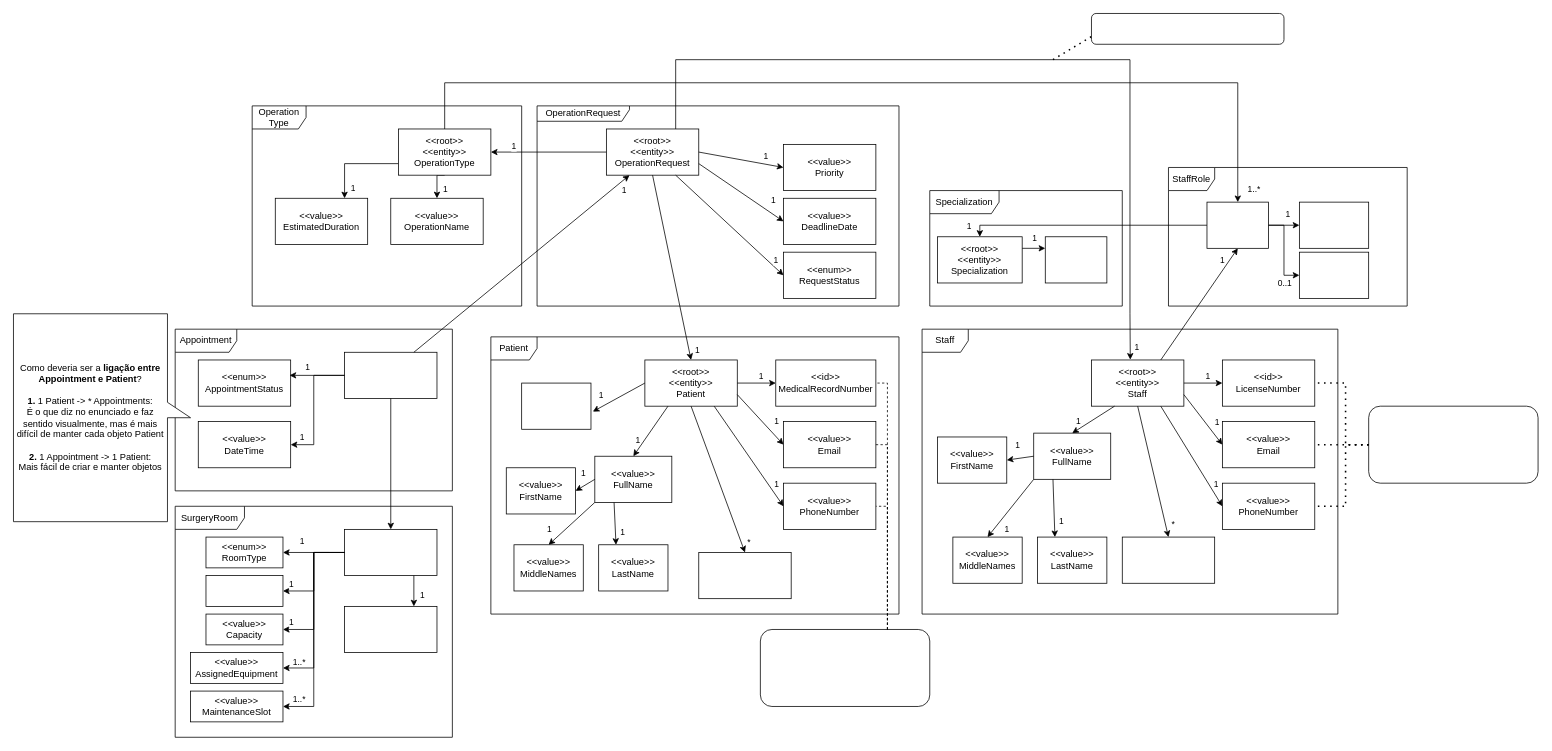
The diagram is 1552 pixels wide and 751 high, and some of its shapes have lost their labels. The centre of each missing label's shape, as x and y in pixels:
"<<enum>> DoctorType" belongs at point 1334,274.
"<<enum>> RoomStatus" belongs at point 244,590.
"<<enum>> StaffRoleName" belongs at point 1334,224.
"<<id>> RoomNumber" belongs at point 390,629.
"<<root>> <<entity>> Appointment" belongs at point 390,375.
"<<root>> <<entity>> StaffRole" belongs at point 1237,224.
"<<root>> <<entity>> SurgeryRoom" belongs at point 390,552.
"<<value>> Allergy" belongs at point 744,575.
"<<value>> AvailableSlot" belongs at point 1168,559.
"<<value>> DateOfBirth" belongs at point 556,405.
"<<value>> Name" belongs at point 1076,259.
"LicenseNumber, Email e PhoneNumber têm de ser valores únicos em Staff" belongs at point 1453,444.
"MedicalRecordNumber, Email e PhoneNumber têm de ser valores únicos em Patient" belongs at point 845,667.
"Staff.StaffRole.StaffRoleName = Doctor" belongs at point 1187,28.
